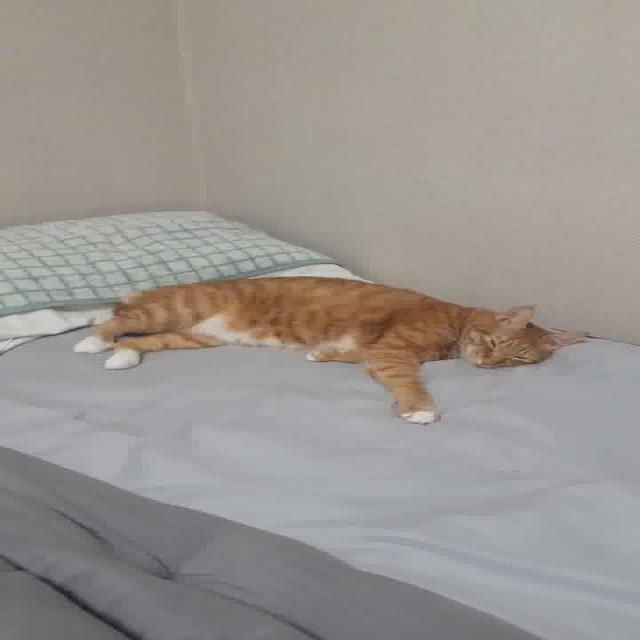cat: (0, 253, 614, 437)
